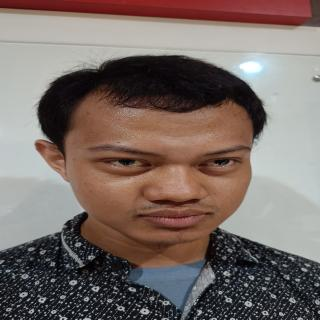Marah: (57, 91, 266, 255)
